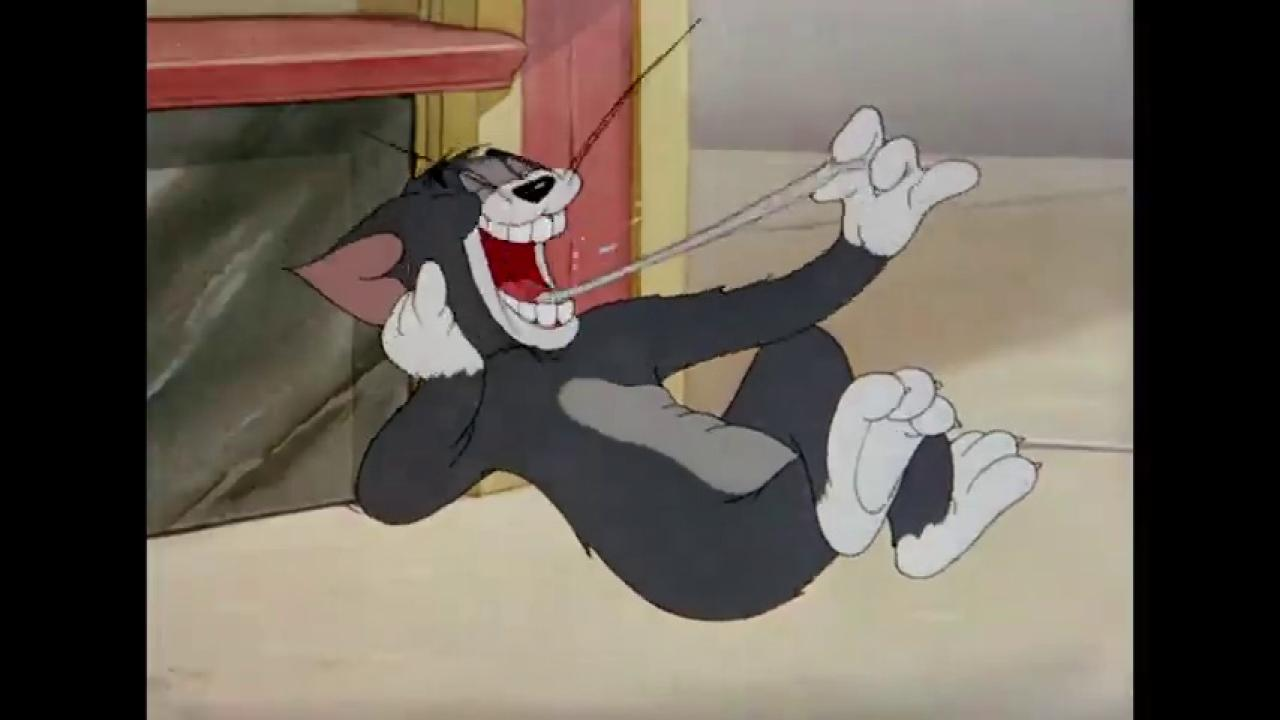Tom: (283, 102, 1045, 624)
